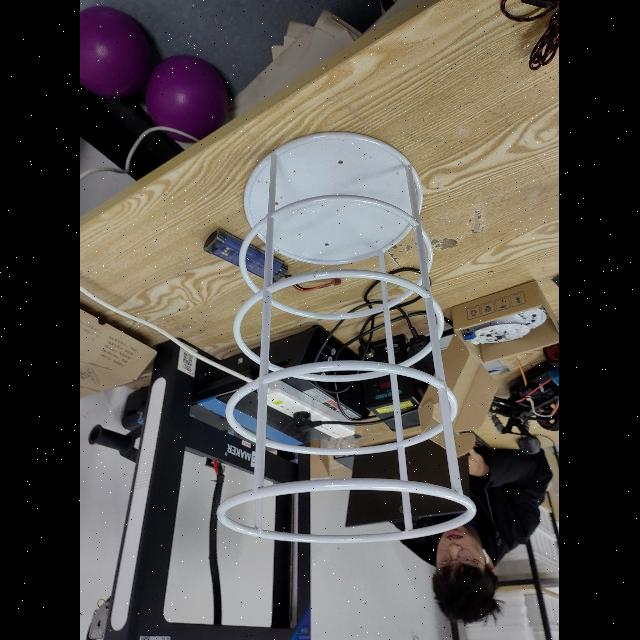S: (208, 130, 480, 548)
